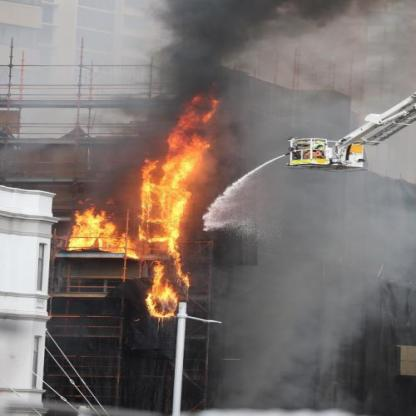fire: (60, 96, 232, 321)
smoke: (140, 0, 328, 90)
